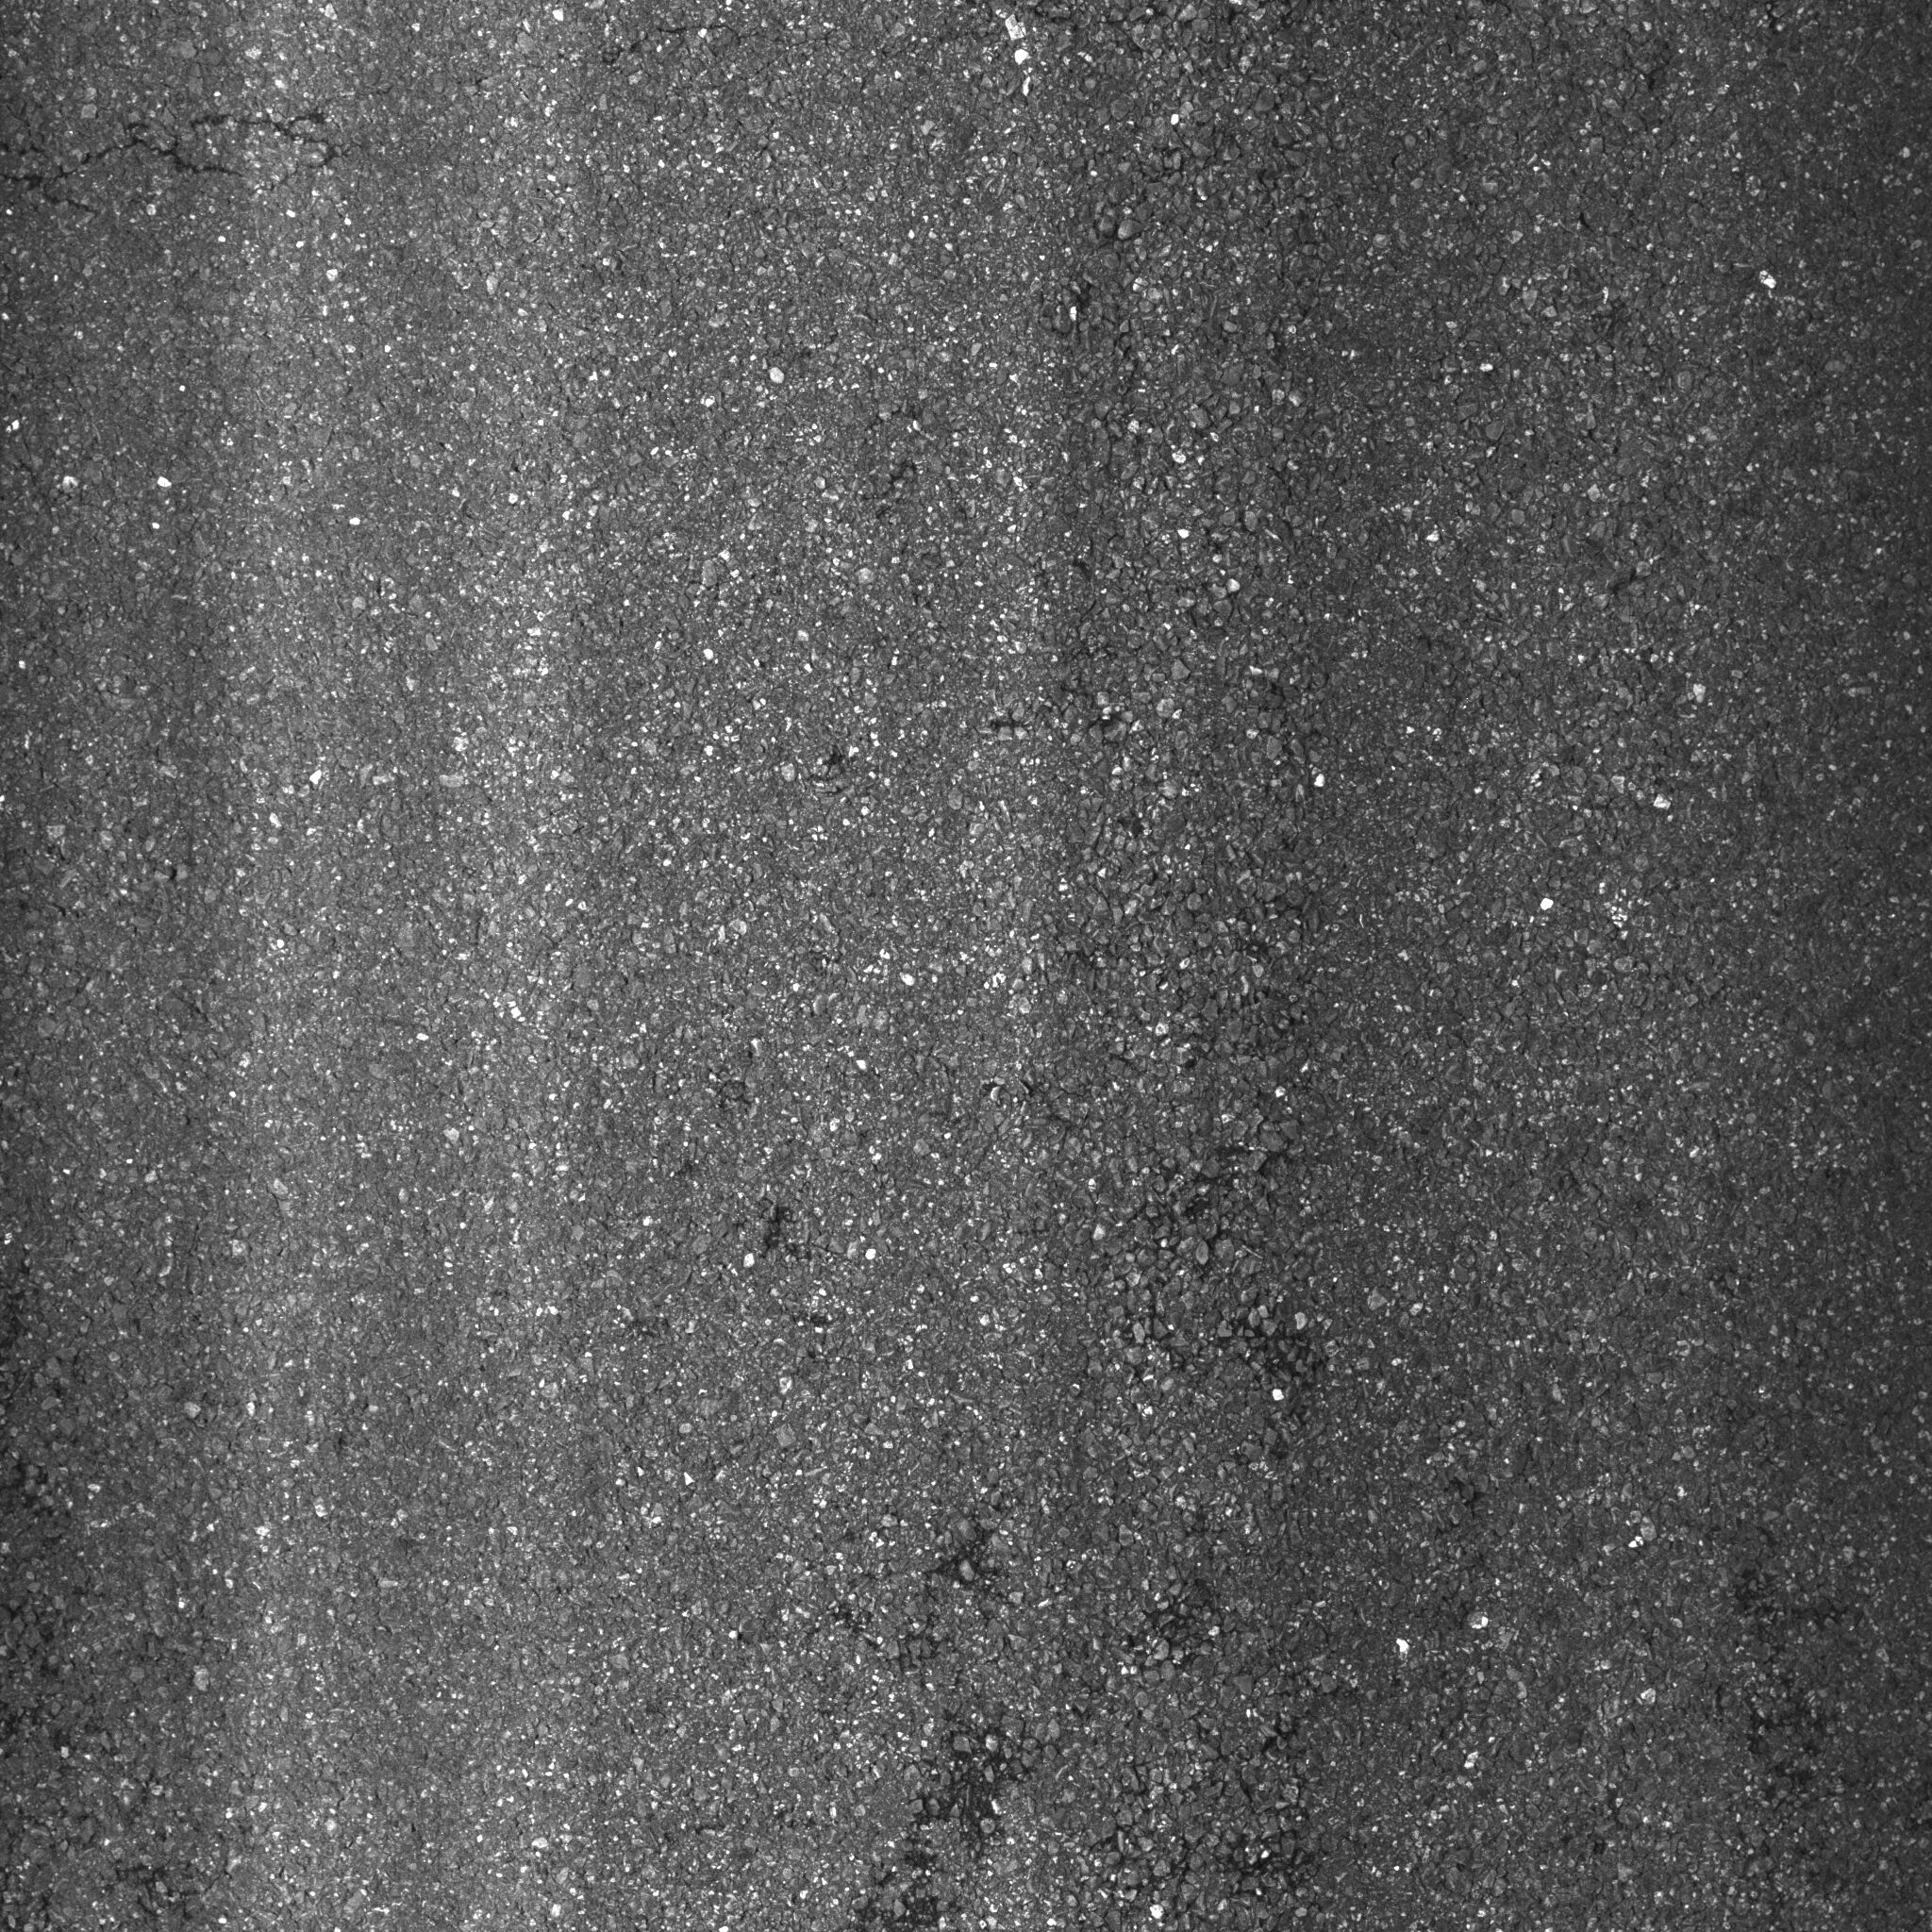transeverse: (23, 2, 1093, 239)
